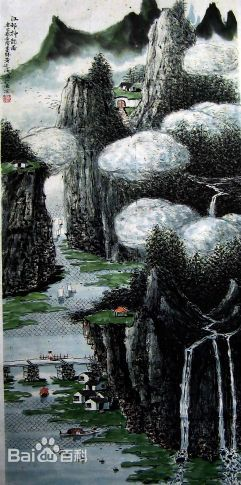boat: (59, 428, 103, 440), (53, 215, 66, 245), (35, 383, 50, 403), (58, 283, 74, 301)
bridge: (2, 356, 89, 380)
cloud: (124, 200, 235, 259), (101, 135, 186, 175), (167, 100, 241, 134)
hill: (1, 121, 54, 294)
house: (76, 371, 113, 410), (113, 89, 143, 110), (7, 161, 29, 170), (115, 305, 128, 317)
range: (61, 54, 241, 442)
river: (9, 308, 112, 485), (49, 200, 80, 308)
tree: (146, 231, 238, 297)
waterfall: (181, 333, 238, 460)
